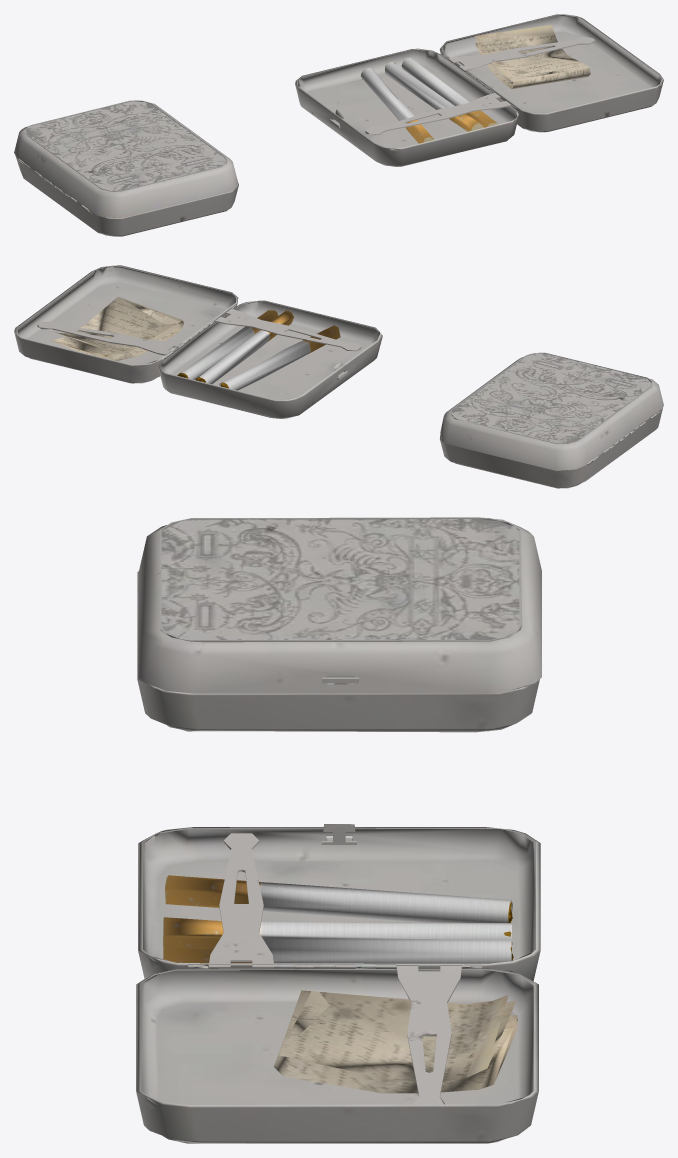
The model's file is cigarette_case.glb.
3 views of the same model, one above another, from view 1: azimuth 30°, elevation 25°; view 2: azimuth 150°, elevation 25°; view 3: azimuth 270°, elevation 25° (orthographic). The views are drawn at different scales.
Visible parts, largest first — view 1: cigarette_case_cover_b; view 2: cigarette_case_cover_b; view 3: cigarette_case_cover_b.
Part boxes in pixels (x1,y1,x2,y2): cigarette_case_cover_b: (14, 14, 663, 236); cigarette_case_cover_b: (14, 265, 663, 488); cigarette_case_cover_b: (136, 517, 541, 1143).
Size of the model in its own units: 0.3233 by 0.0245 by 0.0997.
1 material, 1 textured.
